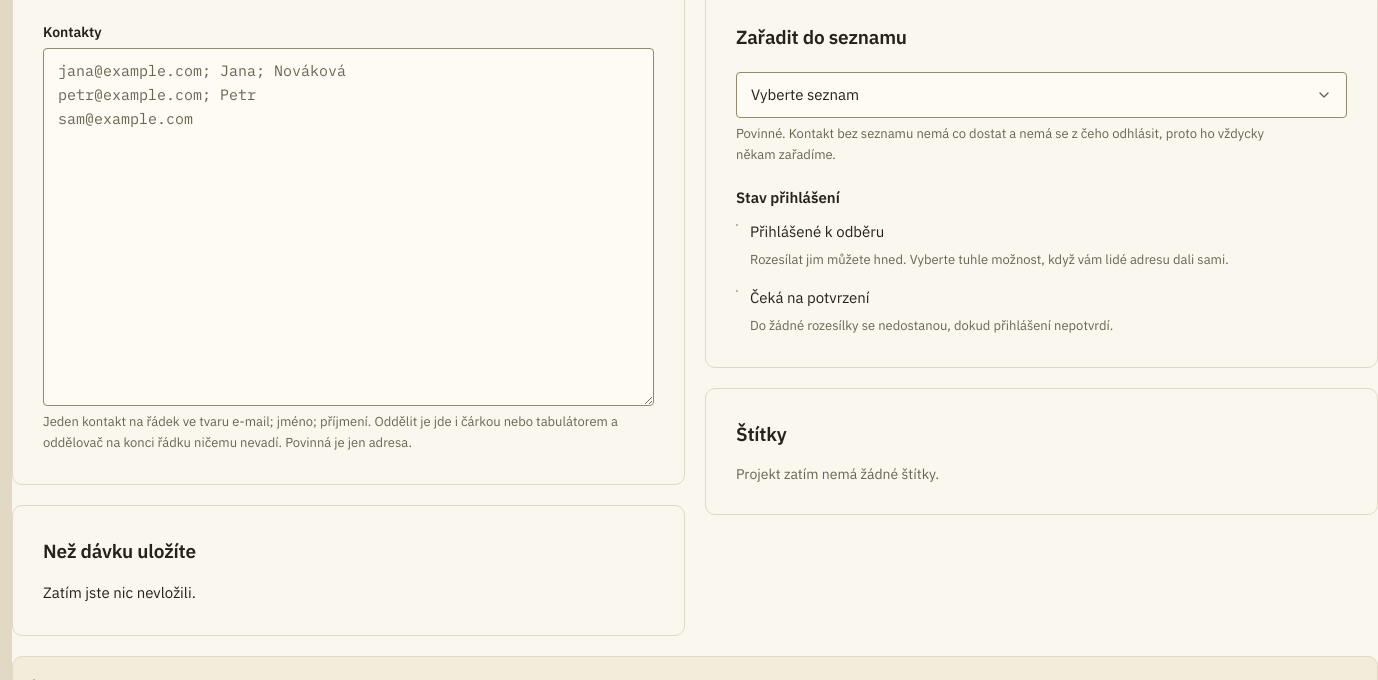
Scenario: obrazovka vložení kontaktů textem › bez seznamu dávku neuloží a řekne proč
The width and height of the screenshot is (1378, 680).
Click the text box labelled "Kontakty". click: [348, 227]
box: x1=43 y1=48 x2=654 y2=406
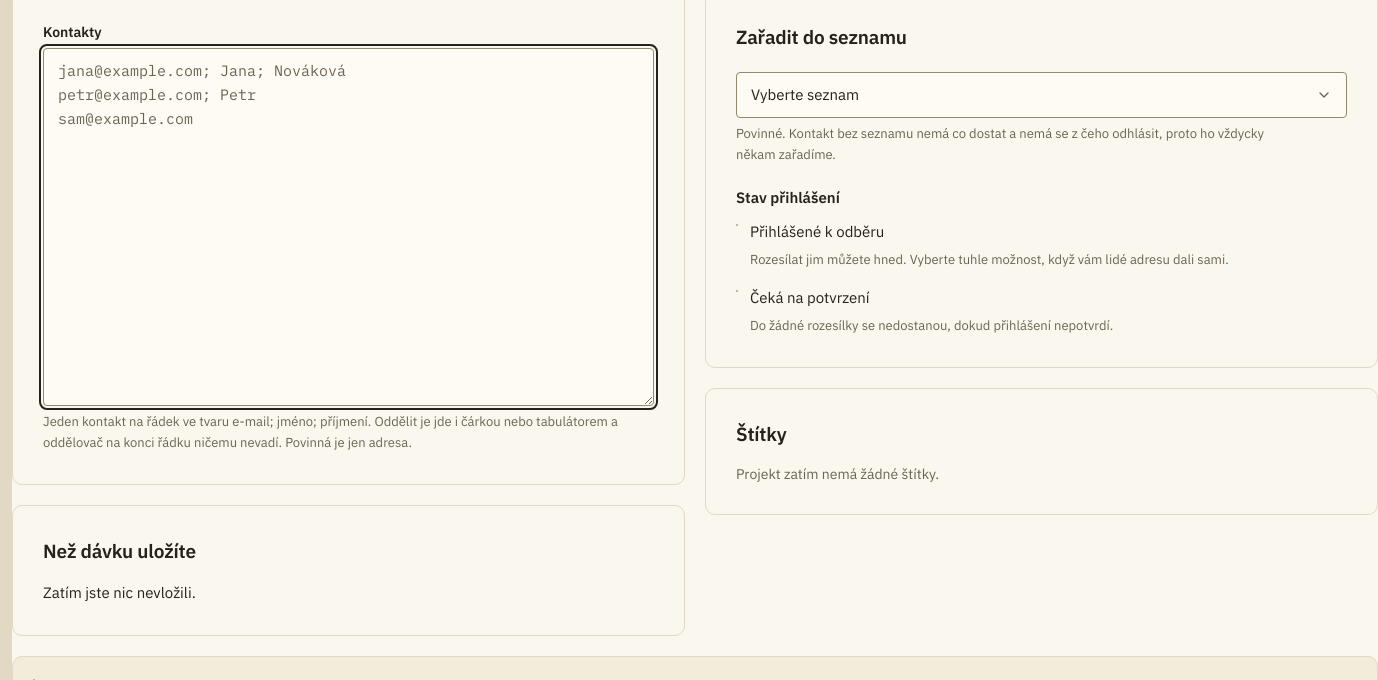
Type keys "jana@example.com; Jana"
(page scrolled)
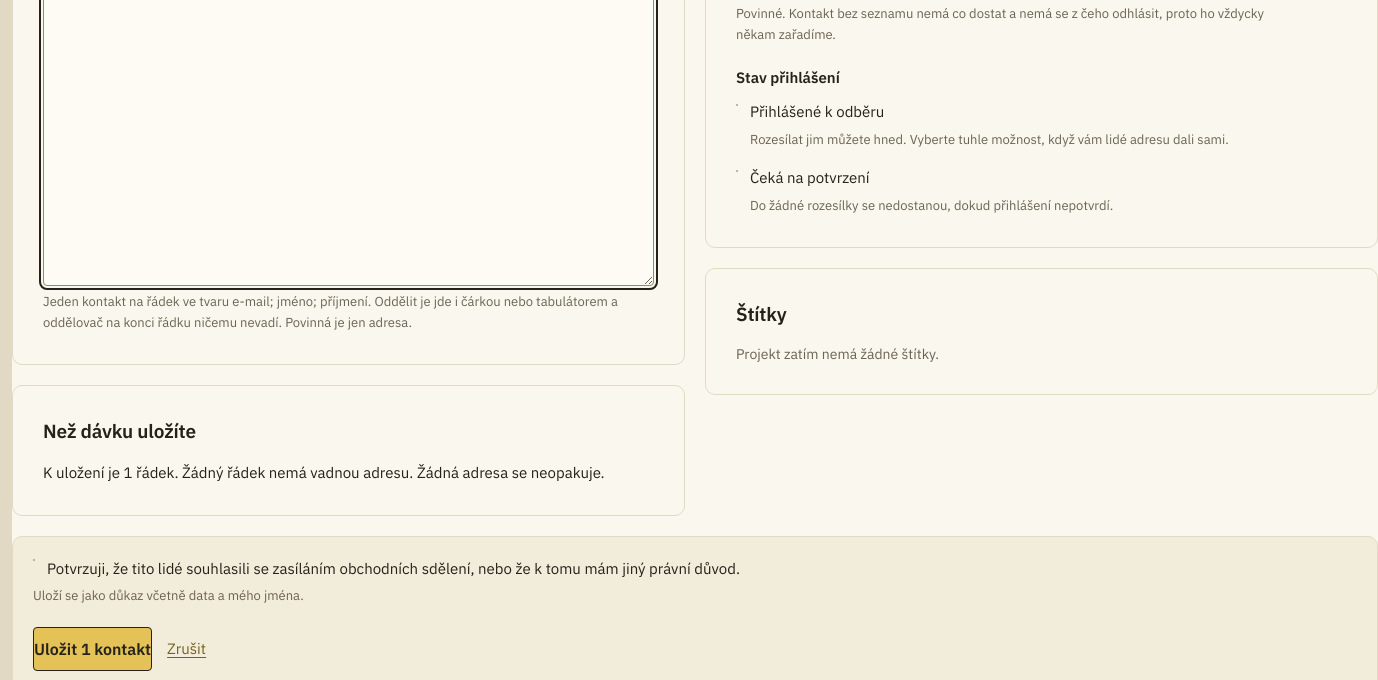
Click the button "Uložit 1 kontakt". click: [93, 649]
box: x1=33 y1=627 x2=152 y2=671
(page scrolled)
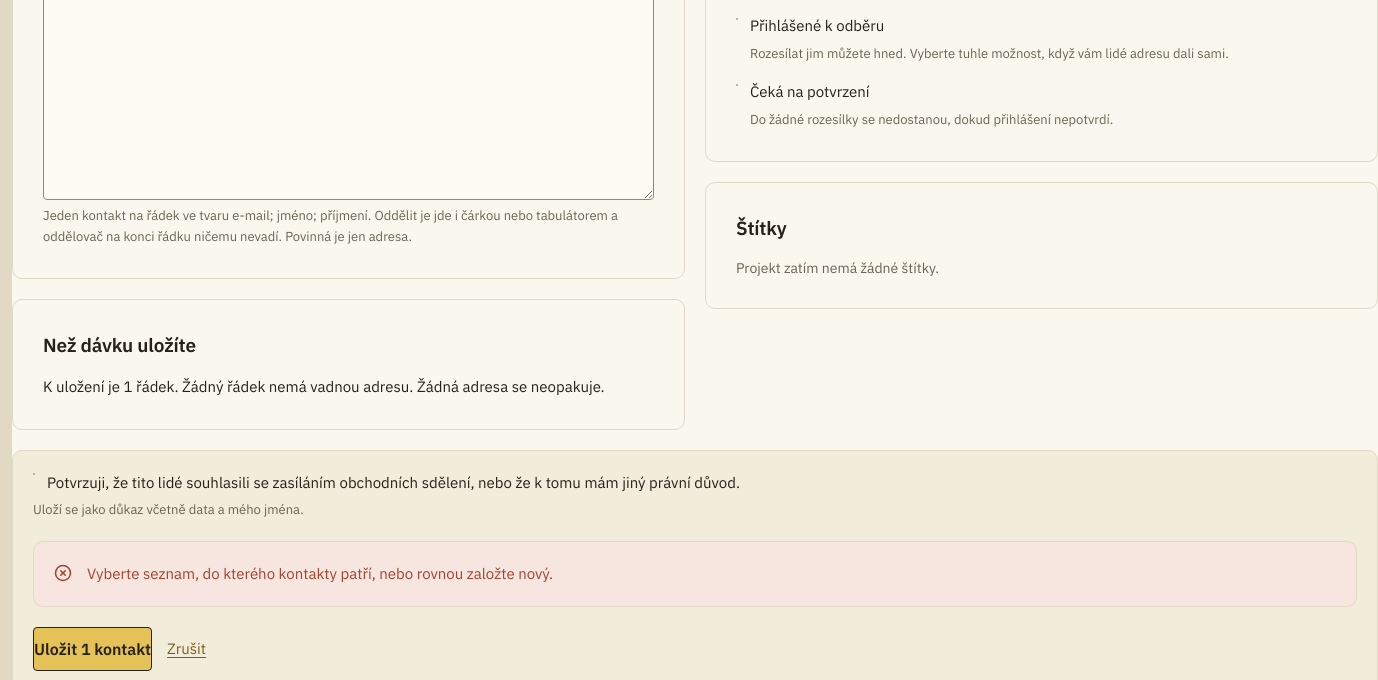
Check: the message "Vyberte seznam, do kterého kontakty patří, nebo rovnou založte nový." is shown, box x1=33 y1=541 x2=1357 y2=607
